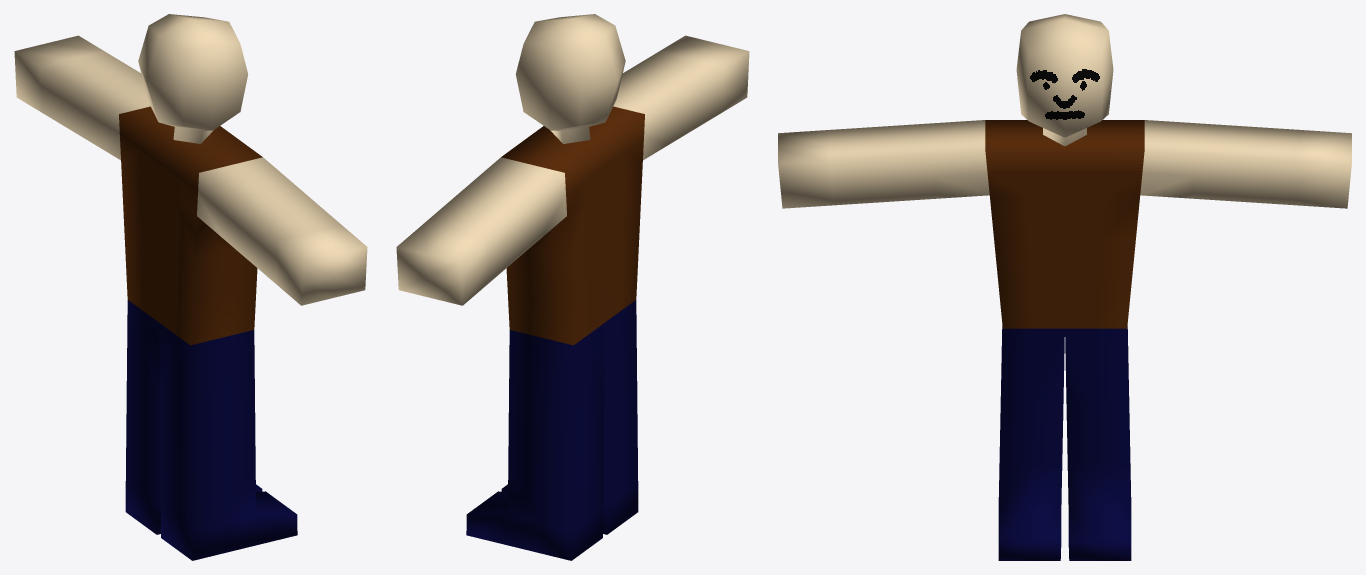
Rendered from person2.glb.
3 views of the same model, side by side, from view 1: azimuth 30°, elevation 25°; view 2: azimuth 150°, elevation 25°; view 3: azimuth 270°, elevation 25° (orthographic).
Visible parts, largest first — view 1: Cube.001, Cube; view 2: Cube.001, Cube; view 3: Cube.001, Cube.
Part boxes in pixels (x1,y1,x2,y2): Cube.001: [14, 35, 367, 560]; Cube: [138, 14, 248, 143]; Cube.001: [396, 35, 749, 560]; Cube: [515, 14, 625, 143]; Cube.001: [778, 120, 1351, 560]; Cube: [1016, 14, 1113, 146].
Size of the model in its own units: 0.8382 by 3.45 by 3.55.
Materials: 3 (1 with a texture image).
